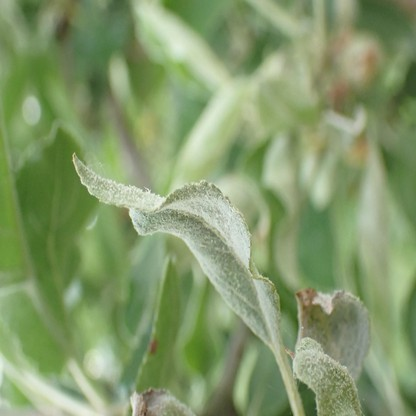powder: (72, 154, 281, 343), (293, 283, 372, 416)
